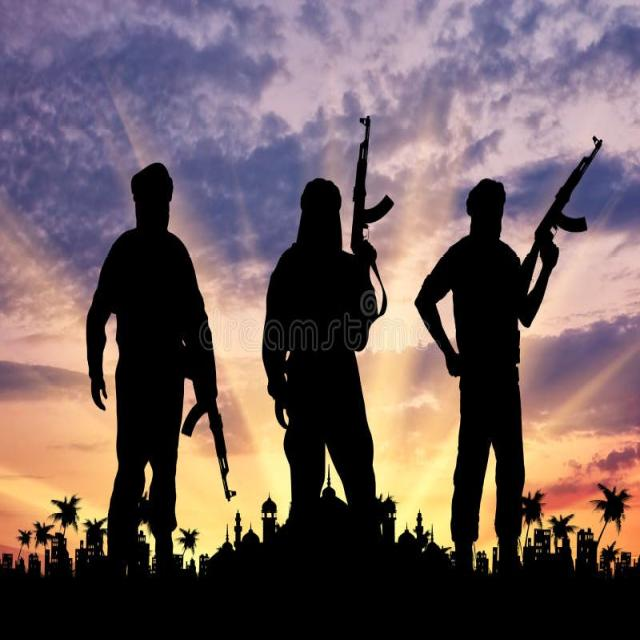Forest: (0, 0, 640, 640)
Militant: (420, 141, 600, 601), (78, 146, 242, 595), (259, 155, 399, 540)
